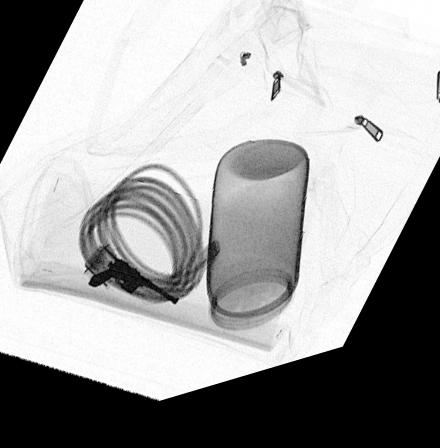Gun: (88, 265, 179, 317)
